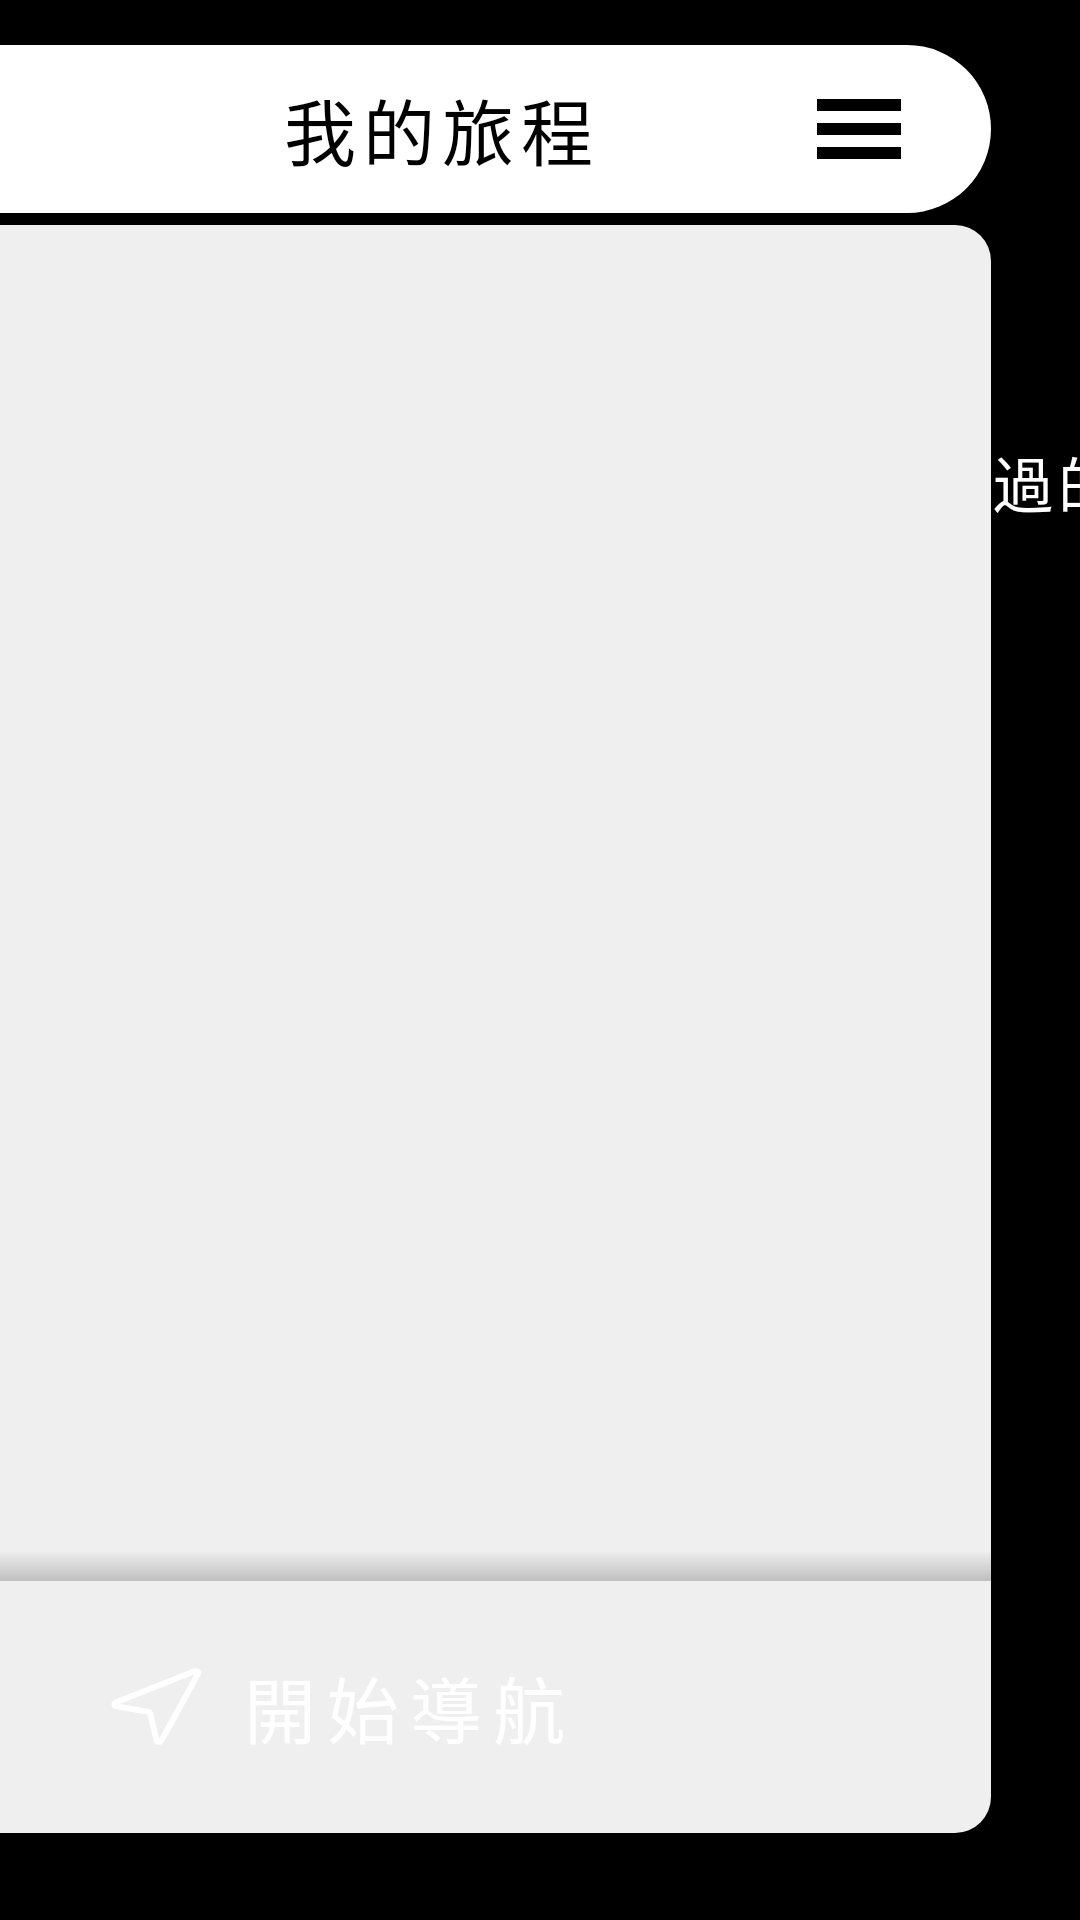

Screen size 1080px x 1920px. Icon name, then its center in pixels as [x,y]:
menu: [859,129]
